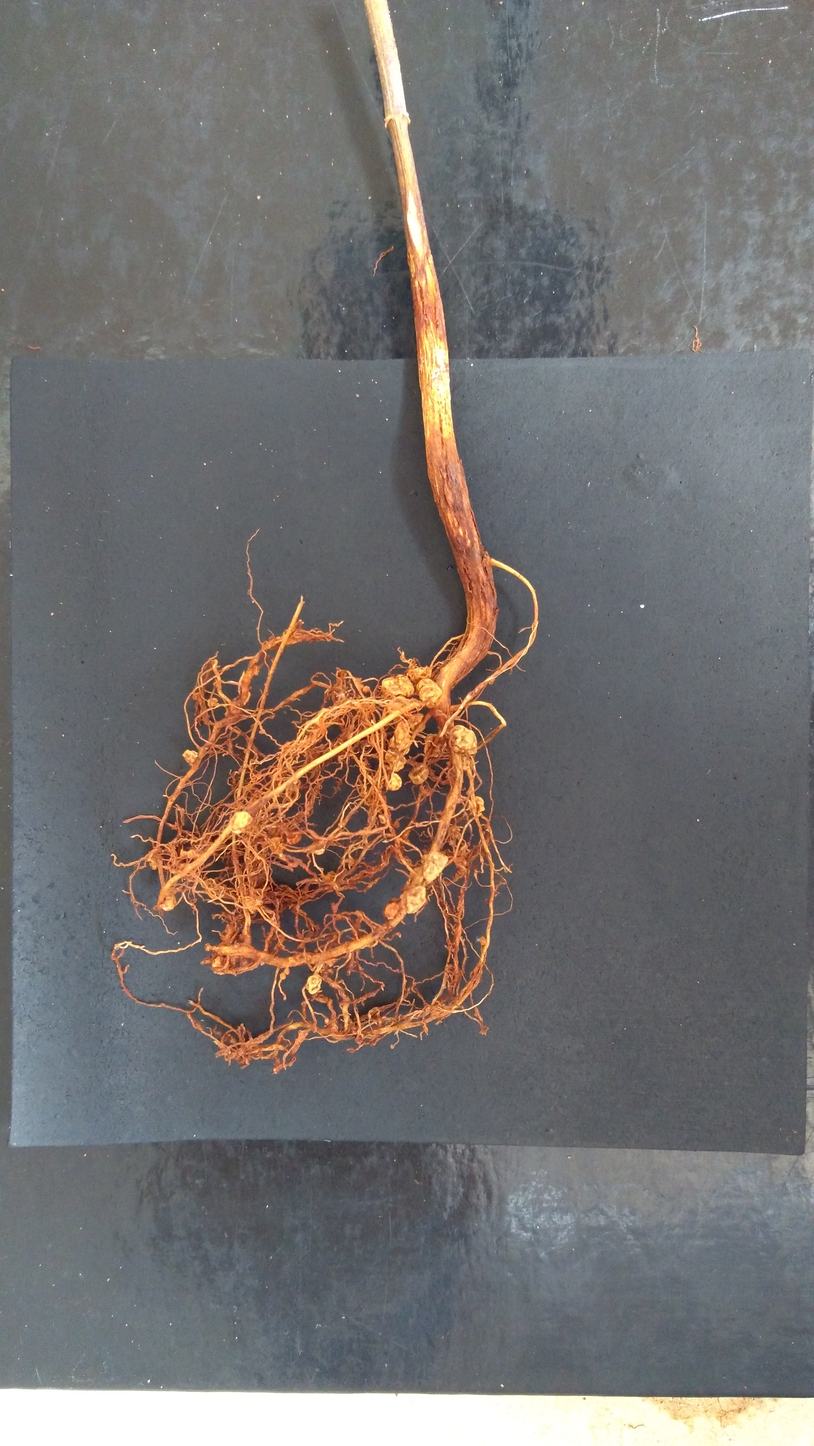nodule: (448, 722, 480, 759), (414, 677, 445, 711), (419, 851, 450, 884), (397, 885, 429, 916), (380, 673, 416, 699), (387, 719, 411, 755), (228, 810, 255, 837), (423, 731, 449, 759), (405, 866, 428, 891), (383, 750, 409, 772), (407, 763, 430, 786), (407, 665, 433, 683), (407, 711, 427, 734), (384, 771, 404, 793), (210, 955, 230, 976), (305, 973, 324, 995), (267, 836, 286, 856), (159, 894, 180, 912), (381, 903, 400, 922), (182, 747, 199, 765), (473, 795, 487, 815), (306, 844, 328, 856), (285, 833, 304, 846), (149, 855, 160, 872), (207, 696, 219, 707), (251, 664, 261, 677), (377, 814, 388, 825), (186, 848, 196, 859), (478, 935, 488, 946), (360, 684, 371, 694), (391, 818, 400, 830), (279, 971, 287, 980), (323, 1016, 331, 1025), (285, 967, 290, 975)
